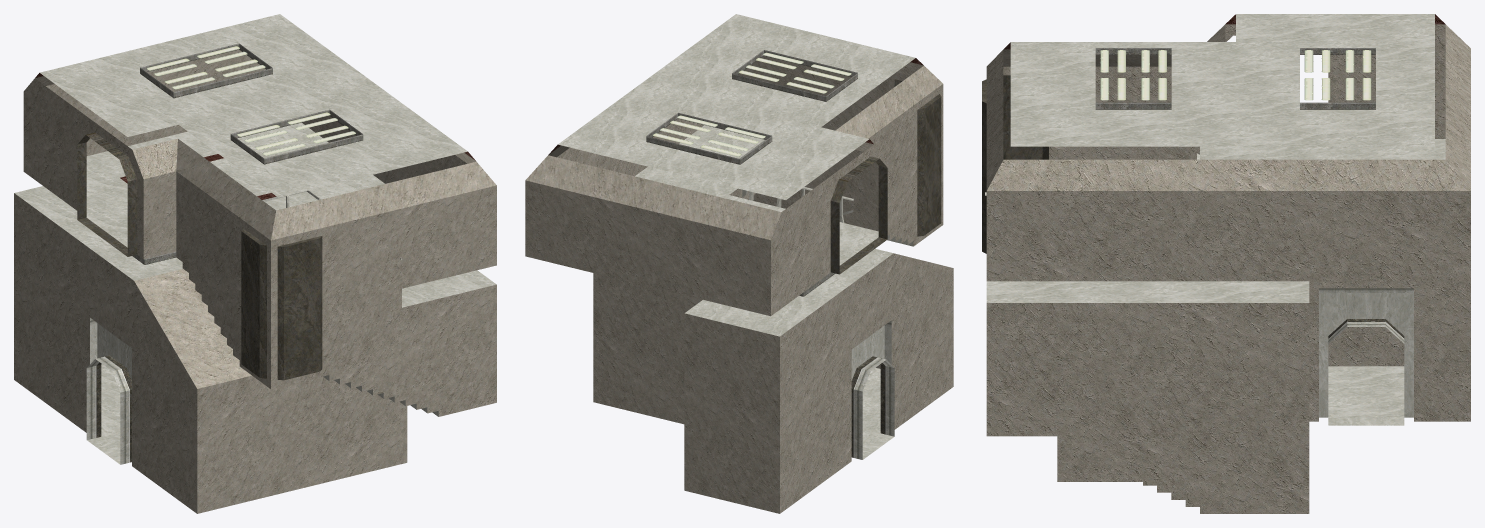
The model's file is ply_nboo_assoc_hall_civ_s01_r4_stairwella_mesh_stairwella.fbx.
3 renders of one model, left to right at view 1: azimuth 30°, elevation 25°; view 2: azimuth 150°, elevation 25°; view 3: azimuth 270°, elevation 25°, orthographic. The views are drawn at different scales.
Parts seen in each view (by area): view 1: mesh_node; view 2: mesh_node; view 3: mesh_node.
Boxes of the visible parts, x1,y1,x2,y2 form: mesh_node: [14, 14, 496, 513]; mesh_node: [525, 14, 953, 513]; mesh_node: [982, 14, 1470, 513].
Size of the model in its own units: 9.45 by 10.58 by 12.86.
